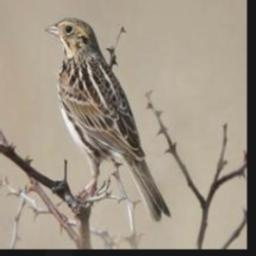Sparrow: (40, 11, 175, 228)
